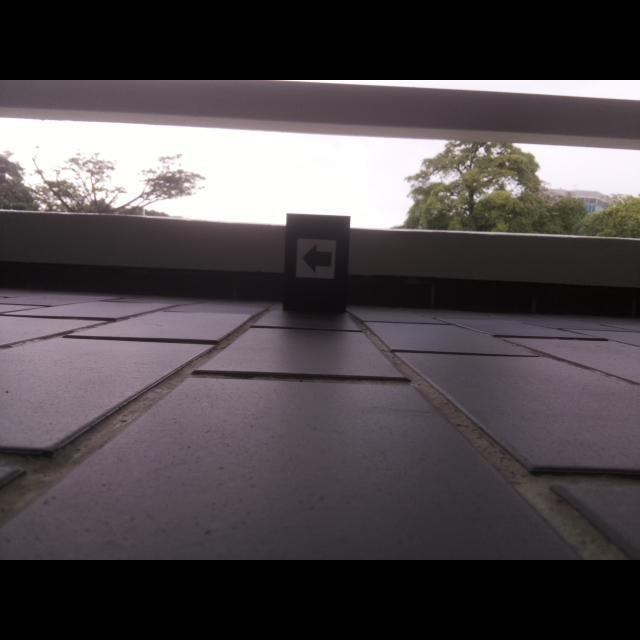LEFT: (301, 243, 332, 275)
